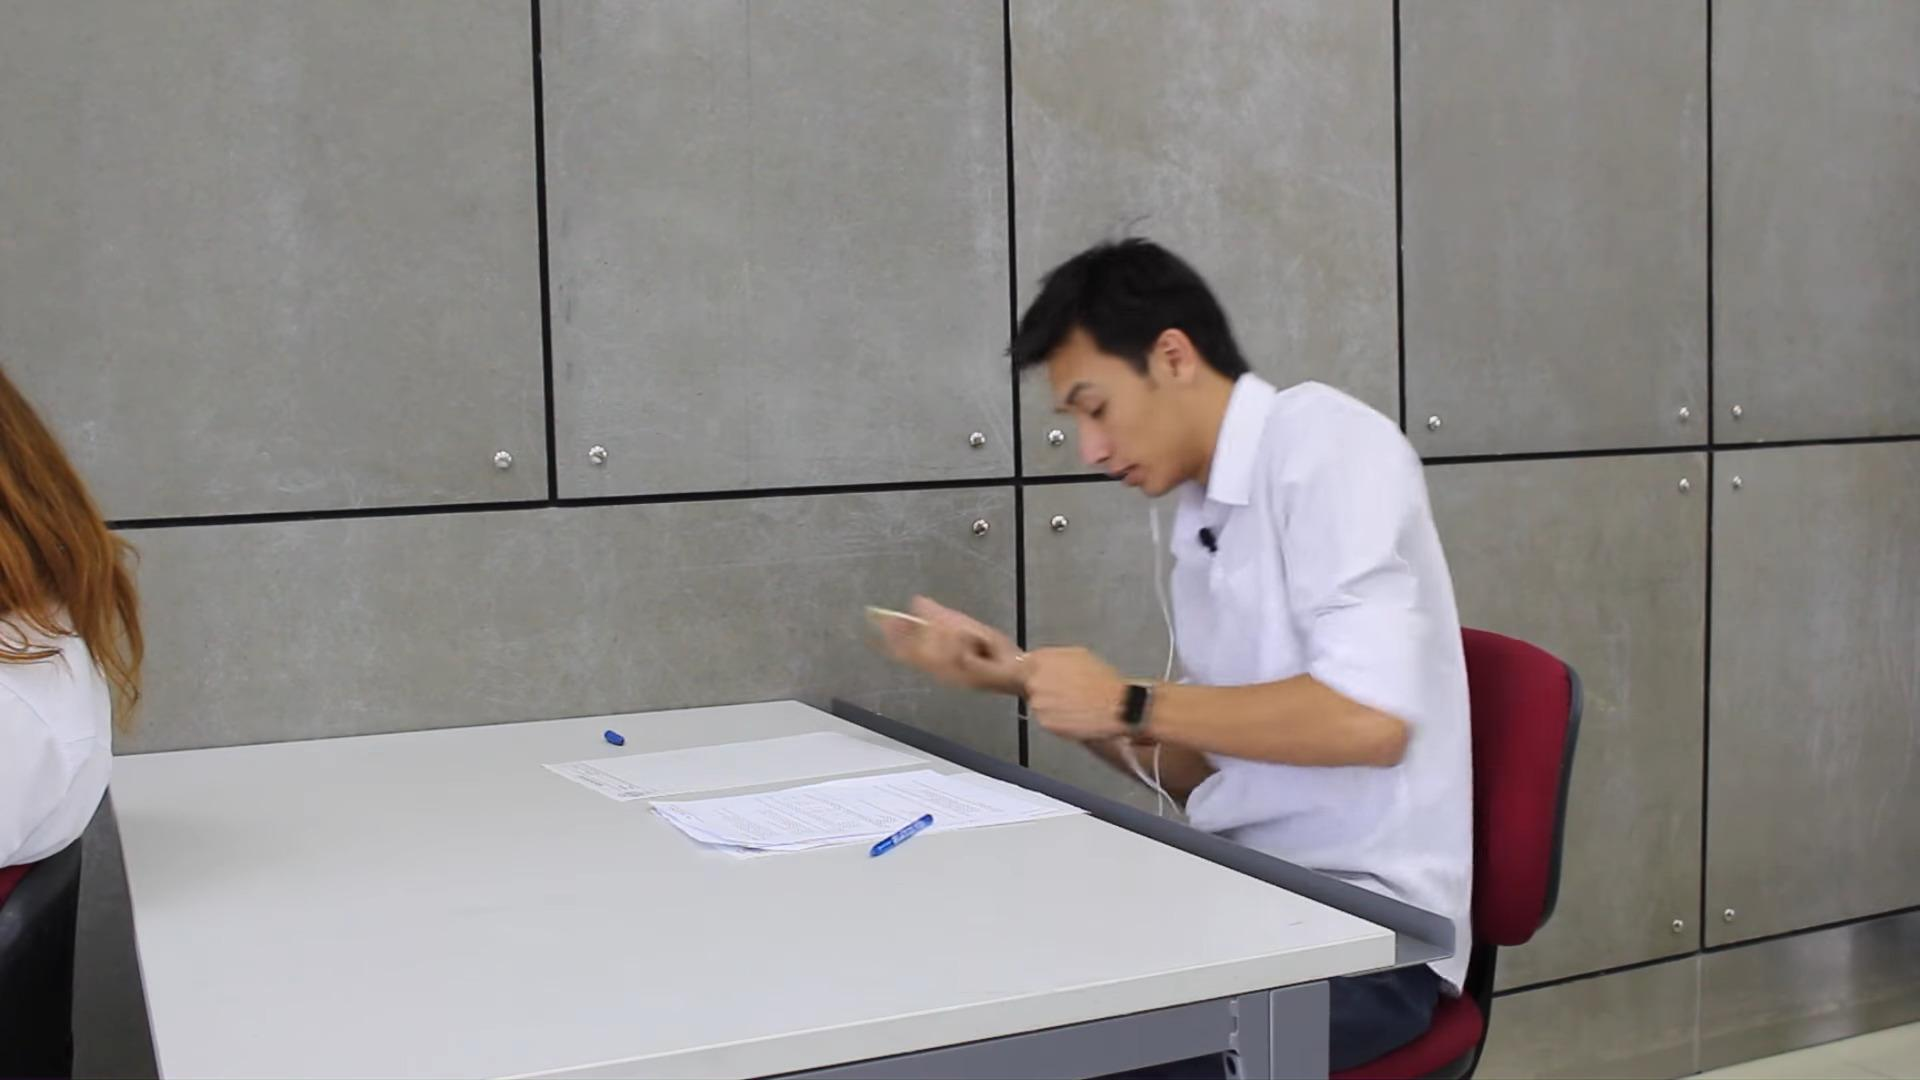cheating: (518, 200, 1510, 932)
